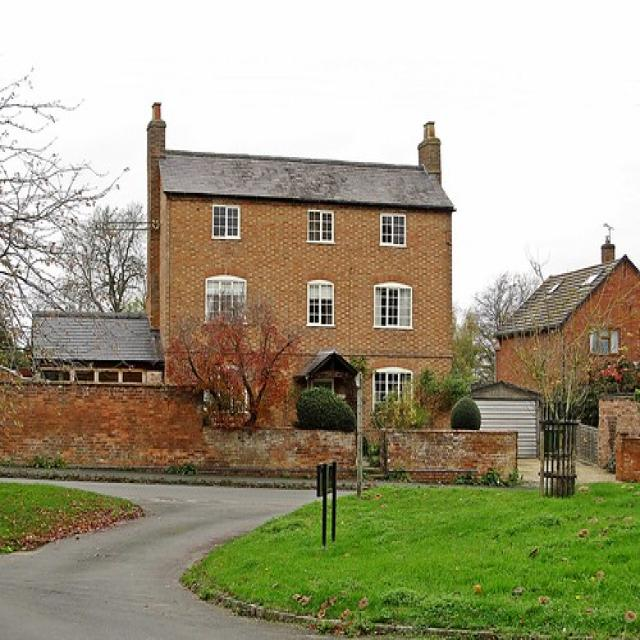building: (134, 86, 465, 443), (490, 243, 640, 457), (32, 308, 160, 414)
